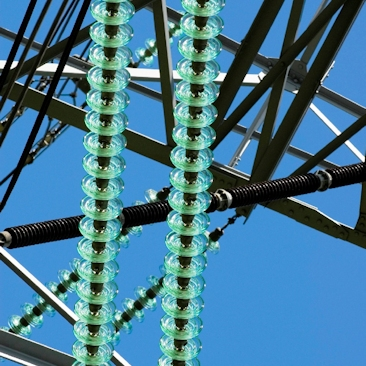isolator: (71, 1, 228, 366), (1, 188, 222, 346), (135, 9, 190, 67)
